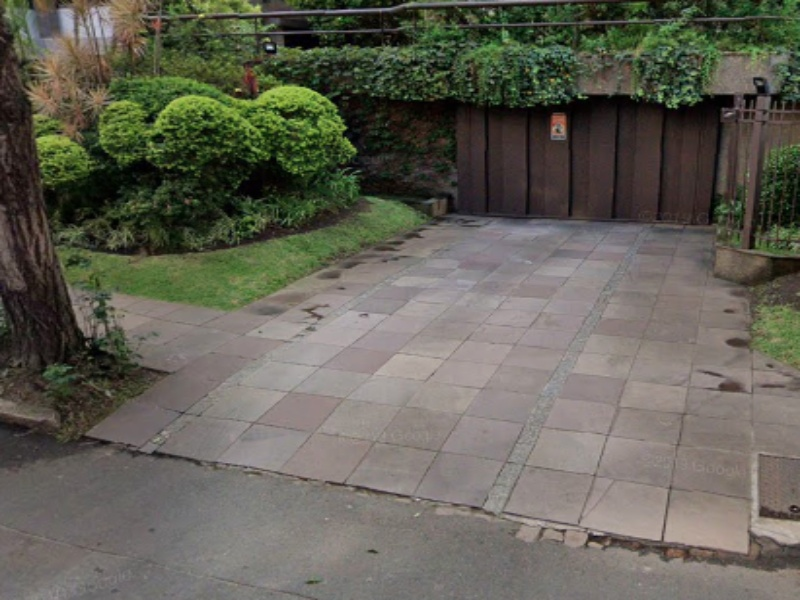g47: (165, 366, 710, 600)
